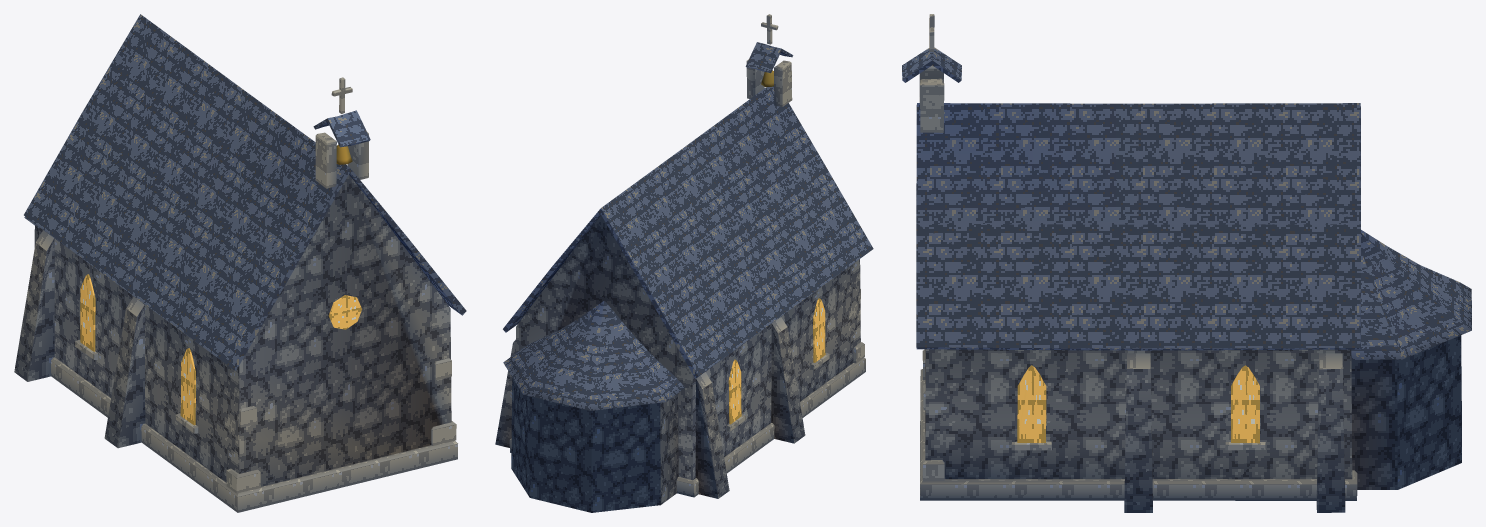
The model's file is vlg.chapel__doorway.glb.
3 views of the same model, side by side, from view 1: azimuth 30°, elevation 25°; view 2: azimuth 150°, elevation 25°; view 3: azimuth 270°, elevation 25° (orthographic). The views are drawn at different scales.
Visible parts, largest first — view 1: kit_roof, kit_walls, kit_stonework, kit_fittings; view 2: kit_roof, kit_walls, kit_stonework, kit_fittings; view 3: kit_roof, kit_walls, kit_stonework, kit_fittings.
Part boxes in pixels (bbox=[...]): kit_roof: bbox=[24, 14, 466, 370]; kit_walls: bbox=[34, 174, 451, 486]; kit_stonework: bbox=[14, 132, 457, 512]; kit_fittings: bbox=[75, 77, 361, 433]; kit_roof: bbox=[503, 42, 873, 410]; kit_walls: bbox=[511, 215, 860, 512]; kit_stonework: bbox=[495, 59, 865, 498]; kit_fittings: bbox=[727, 14, 829, 431]; kit_roof: bbox=[902, 47, 1471, 359]; kit_walls: bbox=[925, 335, 1461, 489]; kit_stonework: bbox=[919, 65, 1357, 512]; kit_fittings: bbox=[929, 14, 1265, 450].
Bounding box in the file's own units: 6.91 × 9.98 × 12.
5 materials, 4 textured.
